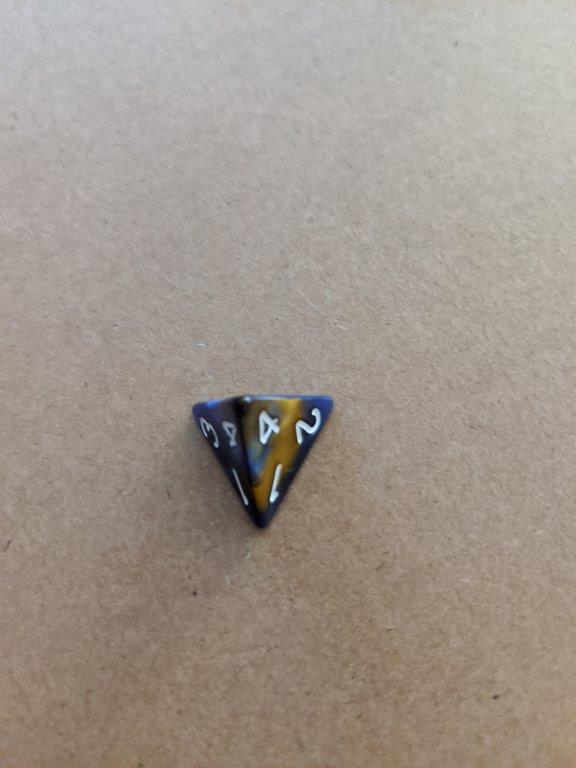d4-4: (190, 388, 338, 531)
